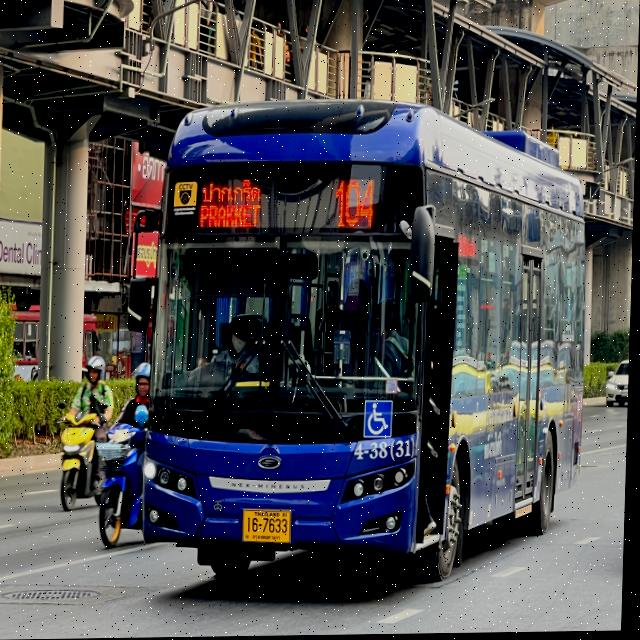Bus-Line-Number: (330, 175, 386, 237)
Destination-Sign-Normal: (195, 173, 277, 236)
TSB-Bus: (139, 89, 596, 590)
